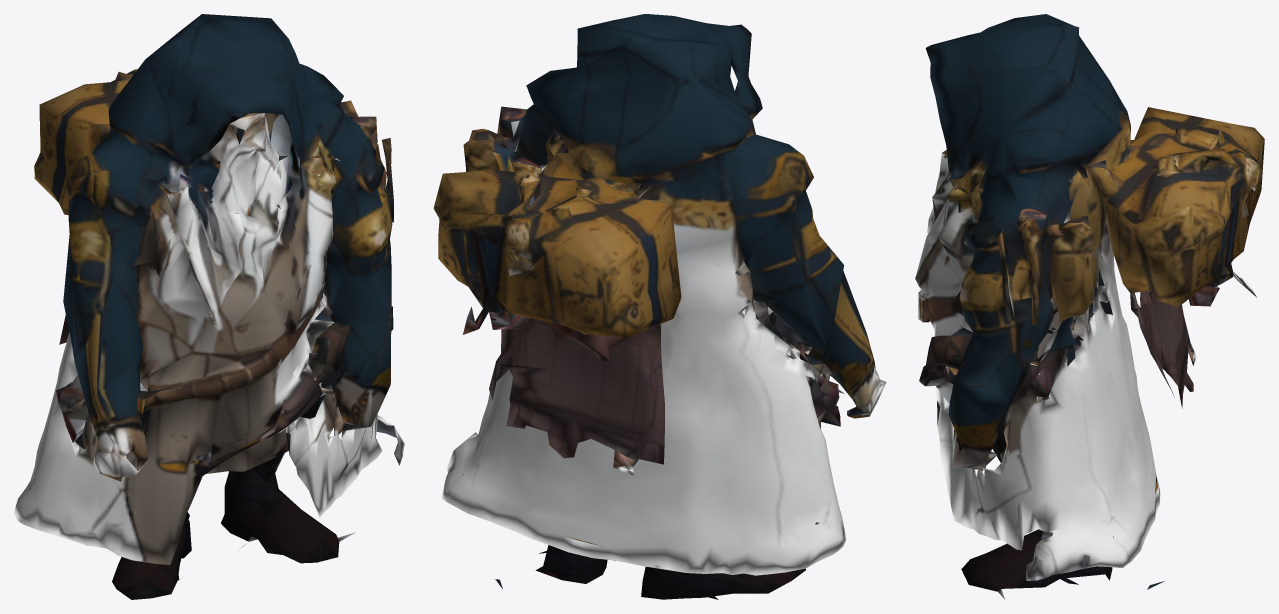
File: acolyte_alchemist.glb
The picture shows the model from 3 angles, left to right: view 1: azimuth 30°, elevation 25°; view 2: azimuth 150°, elevation 25°; view 3: azimuth 270°, elevation 25°; orthographic projection. The views are drawn at different scales.
Parts seen in each view (by area): view 1: LP_baked; view 2: LP_baked; view 3: LP_baked.
Boxes of the visible parts, x1,y1,x2,y2 form: LP_baked: (14,14,404,599); LP_baked: (433,14,886,599); LP_baked: (915,14,1264,599).
Size of the model in its own units: 1.48 by 1.97 by 1.19.
Materials: 1 (1 with a texture image).
